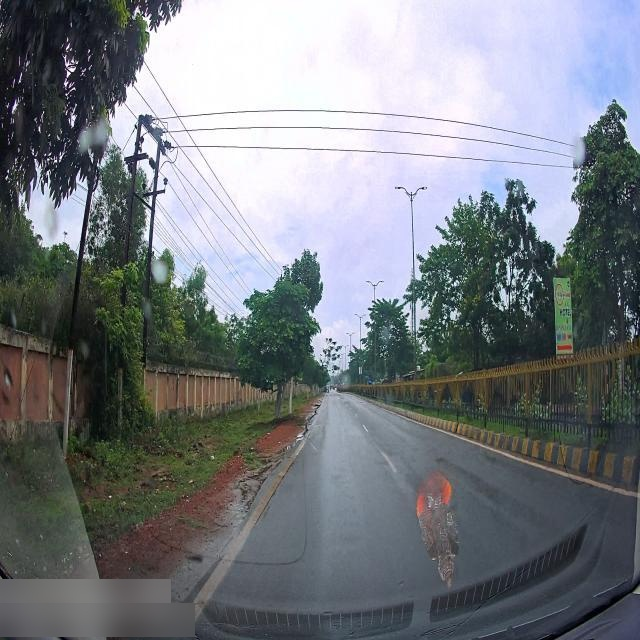pothole: (243, 482, 259, 516), (263, 443, 297, 458), (292, 430, 308, 440), (312, 400, 318, 410)
